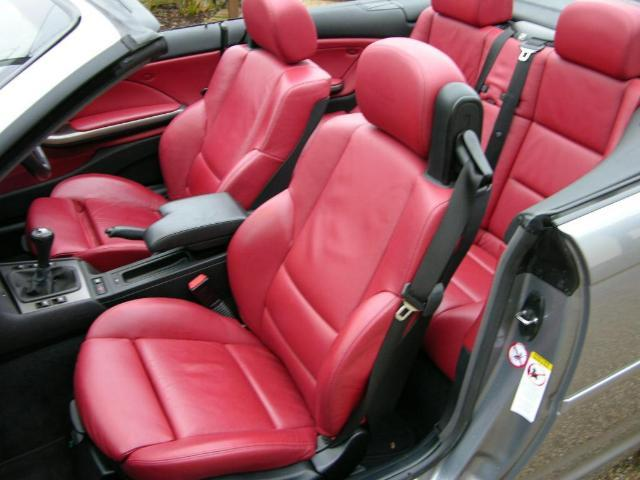Seatbelt: (330, 158, 484, 446)
